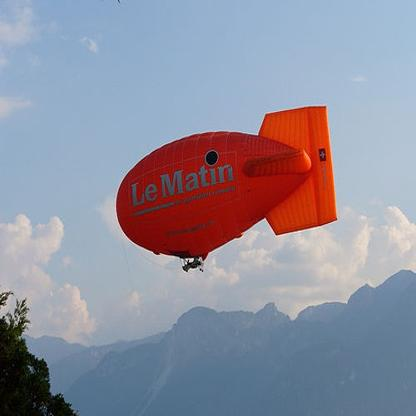Airship: (112, 102, 341, 277)
